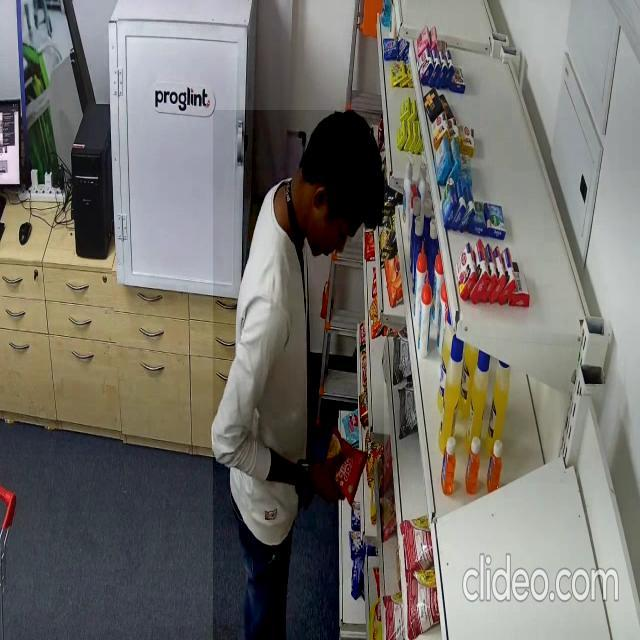normal: (213, 110, 384, 640)
